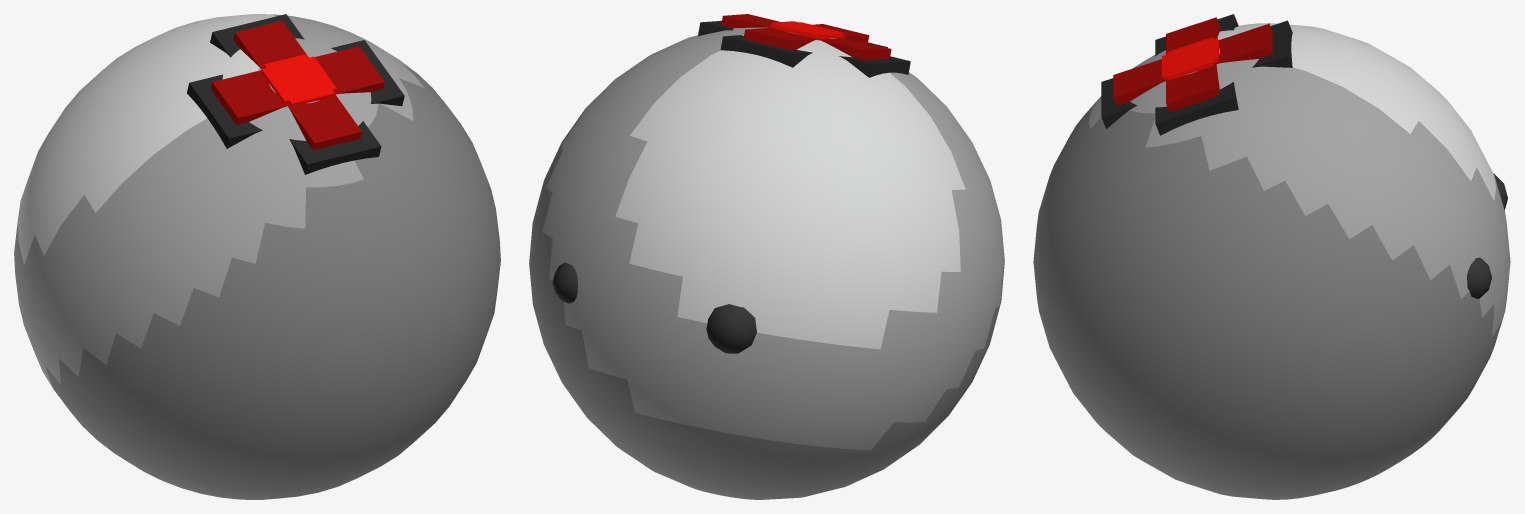
File: seeker_mine_190.glb
3 renders of one model, left to right at view 1: azimuth 30°, elevation 25°; view 2: azimuth 150°, elevation 25°; view 3: azimuth 270°, elevation 25°, orthographic. The views are drawn at different scales.
Visible parts, largest first — view 1: seeker_mine_190; view 2: seeker_mine_190; view 3: seeker_mine_190.
Boxes of the visible parts, bbox=[...] form: seeker_mine_190: bbox=[14, 14, 500, 499]; seeker_mine_190: bbox=[529, 14, 1004, 499]; seeker_mine_190: bbox=[1033, 14, 1510, 499].
Bounding box in the file's own units: 8.9 × 9.11 × 8.9.
